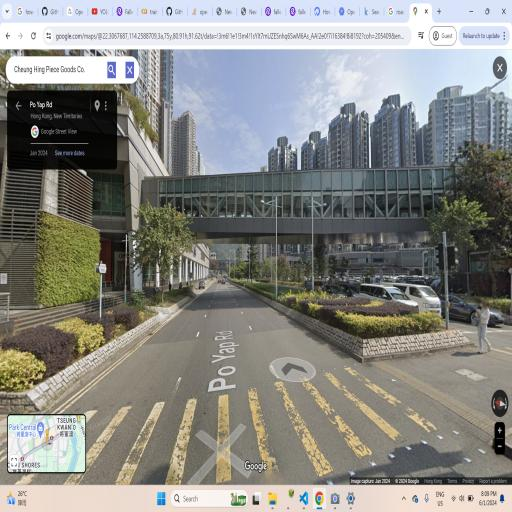Roads: (115, 263, 456, 450)
Trees: (112, 185, 209, 300)
